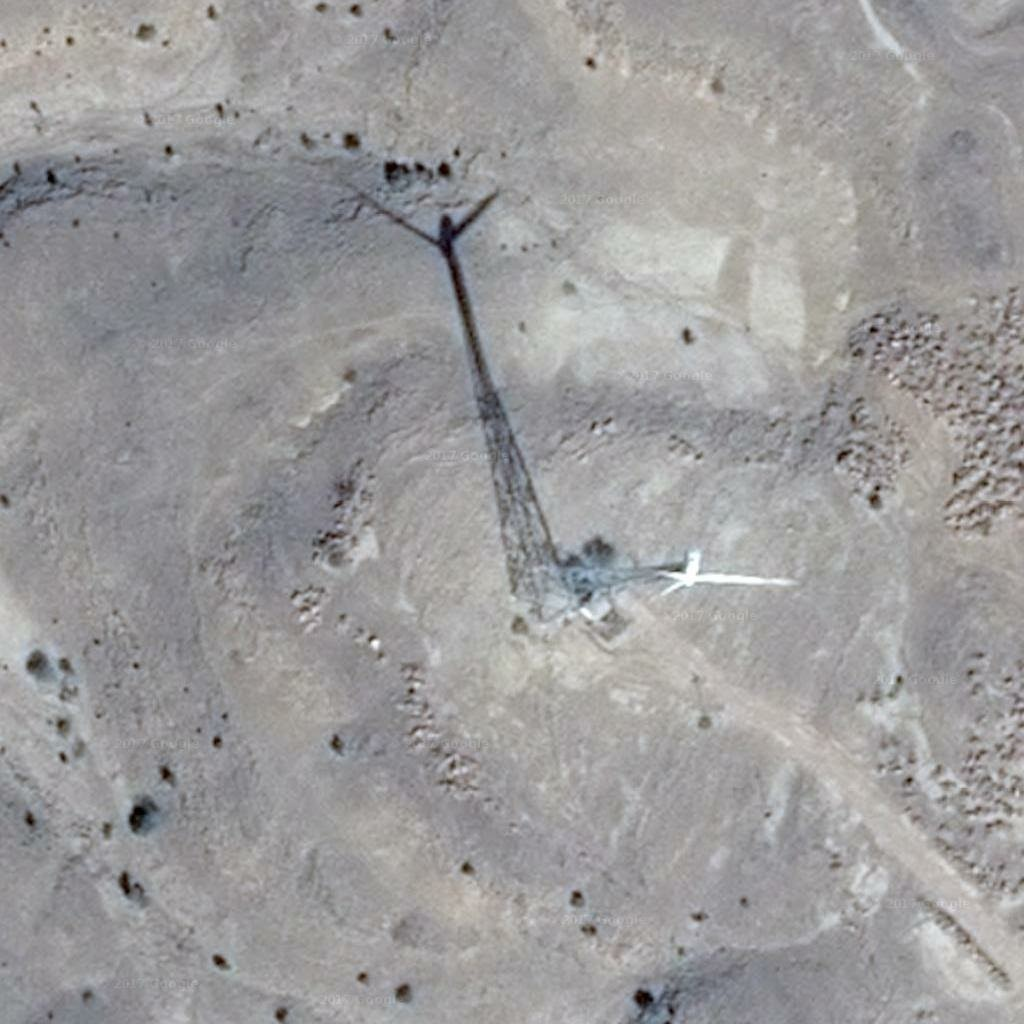Windmill: (345, 179, 577, 573)
